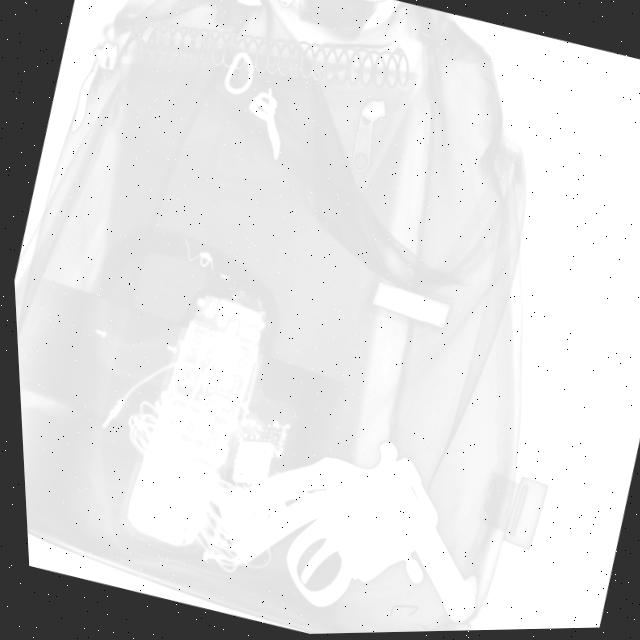pistol: (186, 395, 510, 637)
